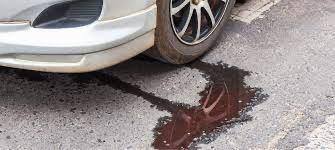water accumulation: (95, 60, 265, 150)
